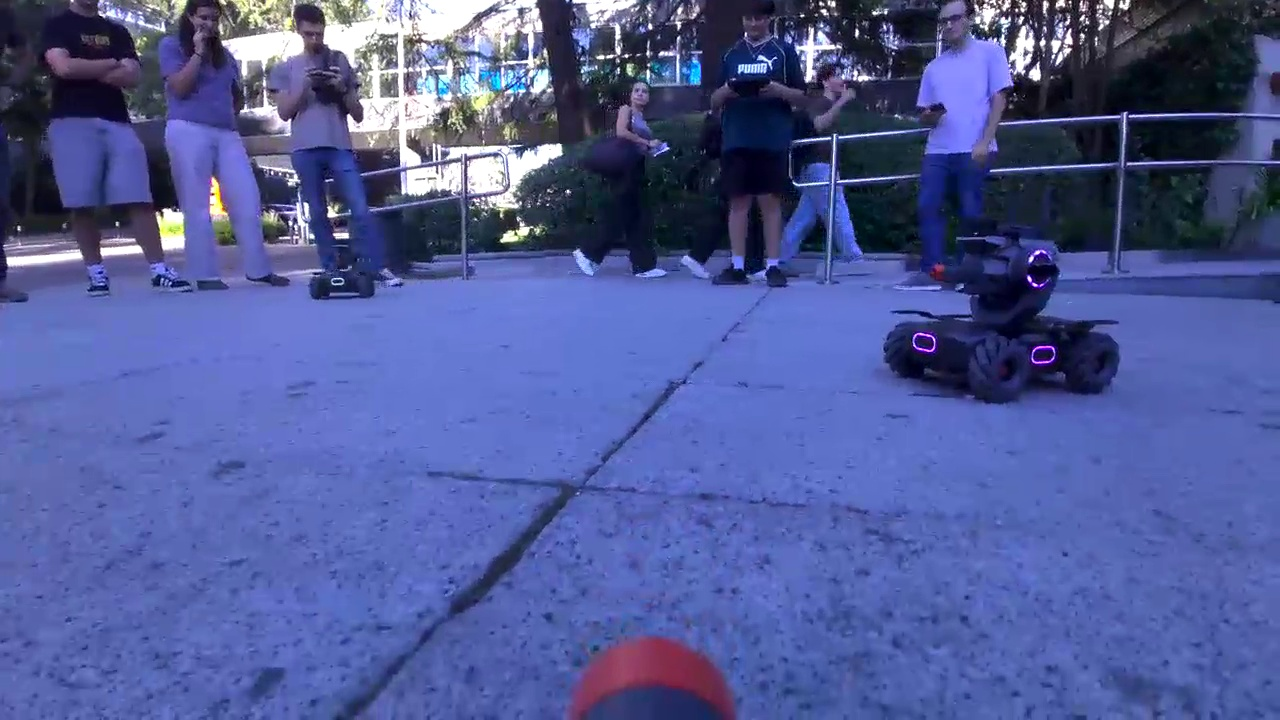robot: (890, 235, 1127, 416), (306, 234, 384, 307)
